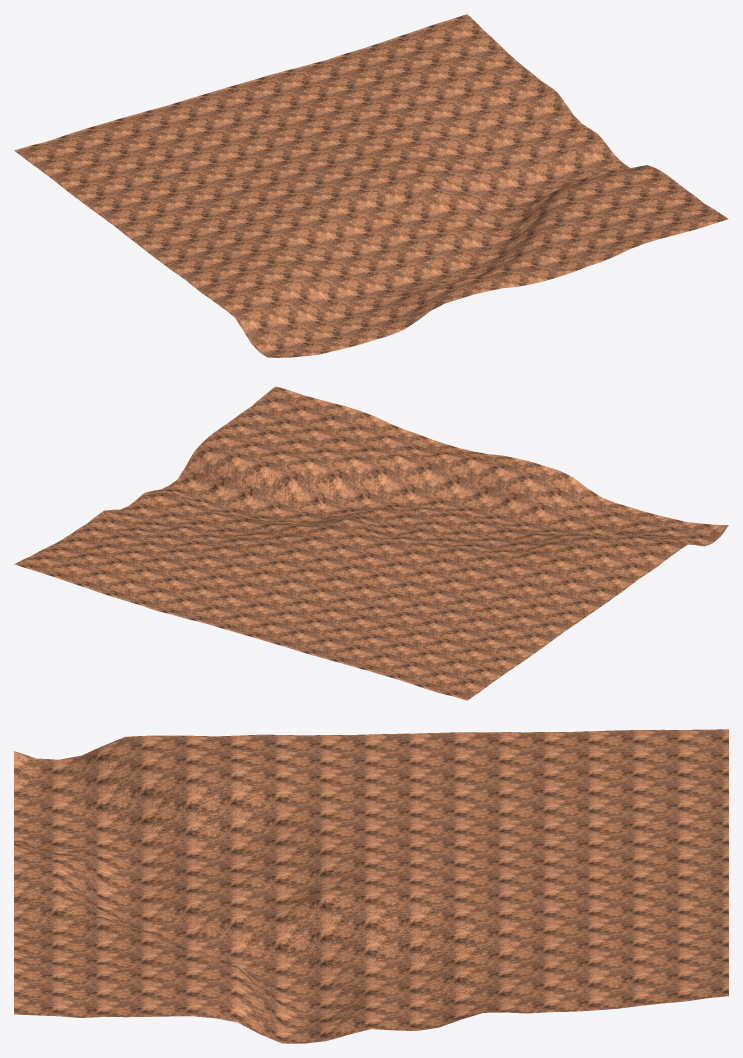
The model's file is terrain_06_17.dae.
3 views of the same model, one above another, from view 1: azimuth 30°, elevation 25°; view 2: azimuth 150°, elevation 25°; view 3: azimuth 270°, elevation 25° (orthographic). The views are drawn at different scales.
Parts seen in each view (by area): view 1: terrain_06_17-node; view 2: terrain_06_17-node; view 3: terrain_06_17-node.
Boxes of the visible parts, x1,y1,x2,y2 form: terrain_06_17-node: (14,14,728,357); terrain_06_17-node: (14,386,728,700); terrain_06_17-node: (14,729,728,1043).
Bounding box in the file's own units: 128 × 128 × 13.26.
Materials: 1 (1 with a texture image).
